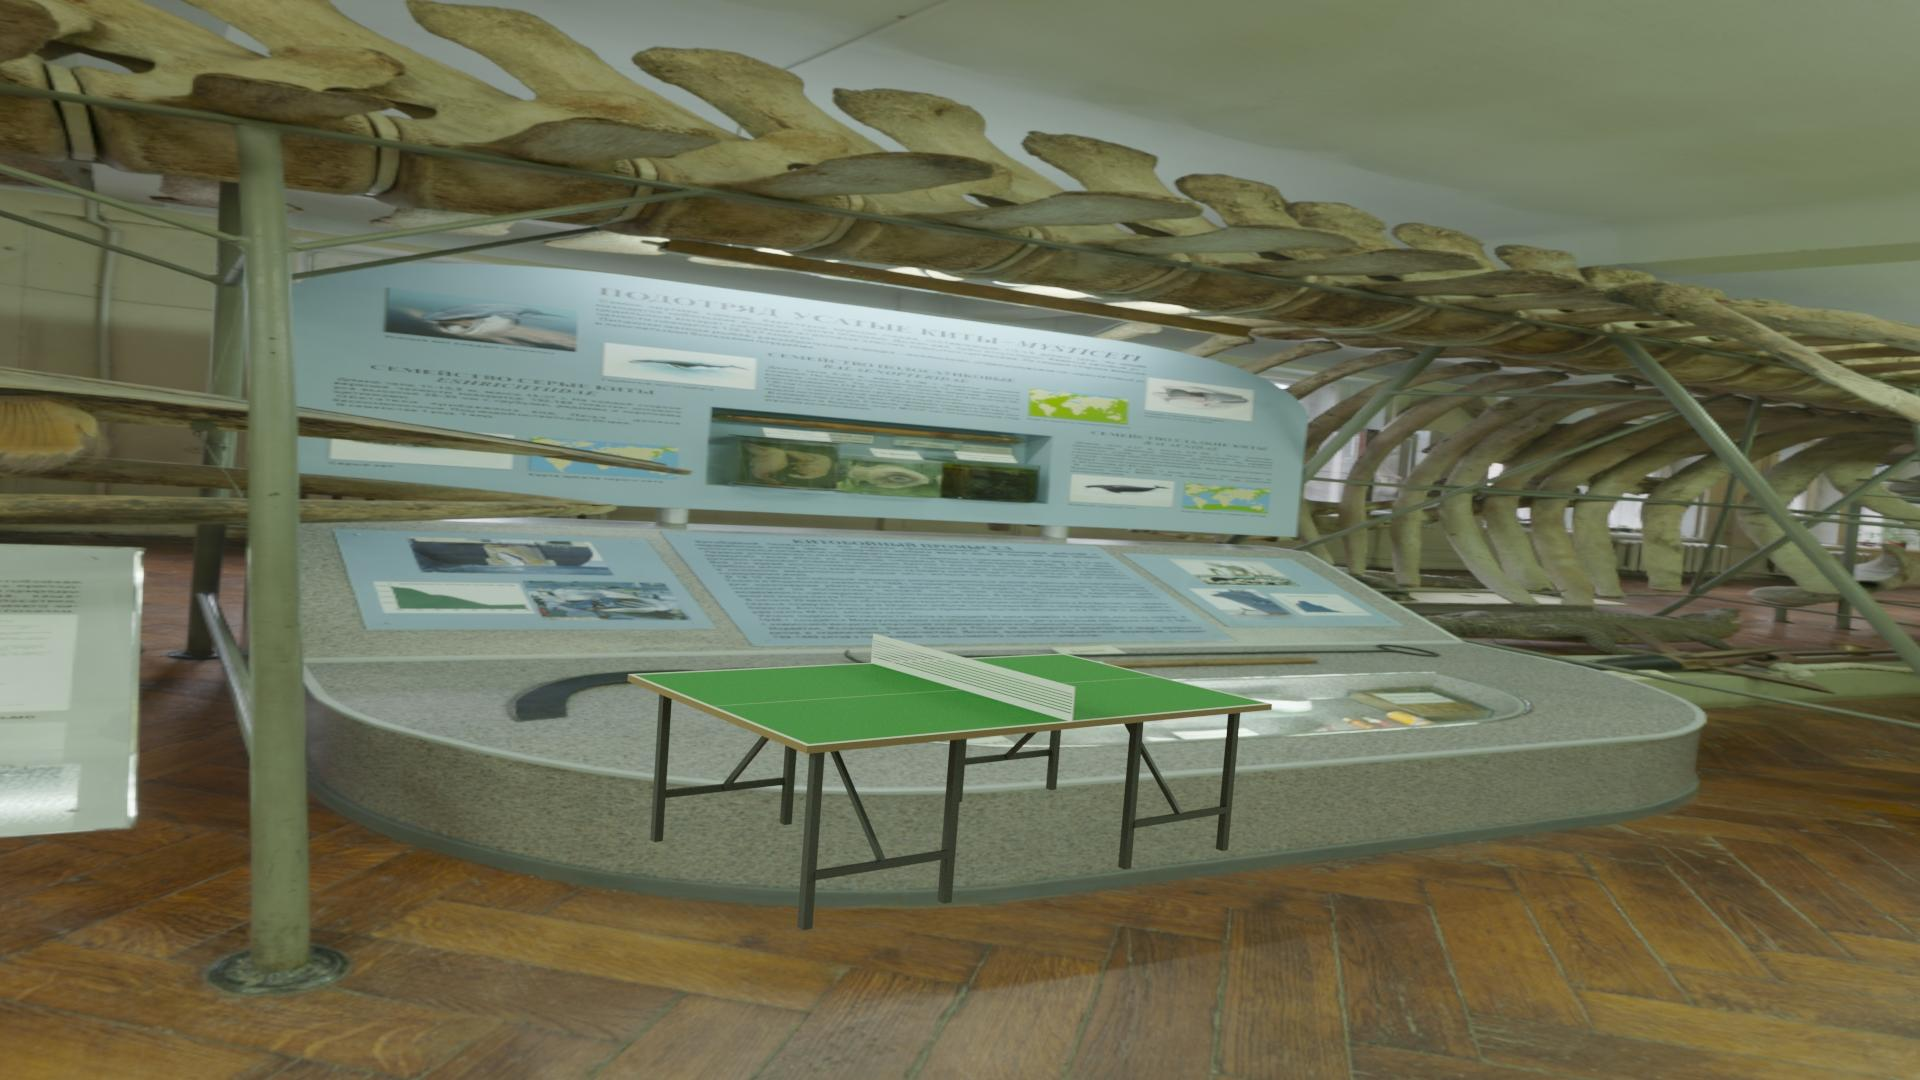table: (634, 654, 1267, 744)
